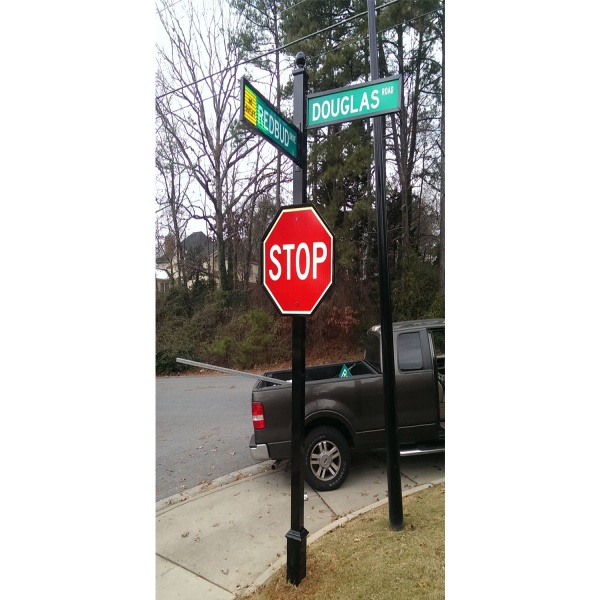stop: (265, 203, 333, 319)
